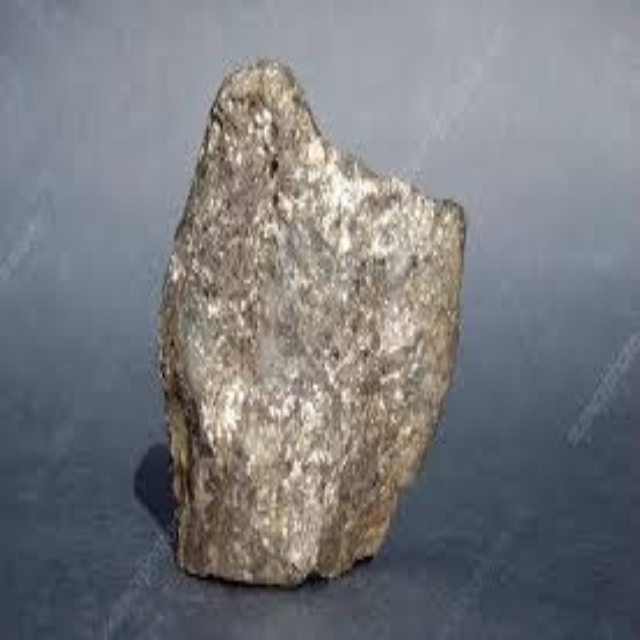obstacle: (160, 59, 464, 584)
